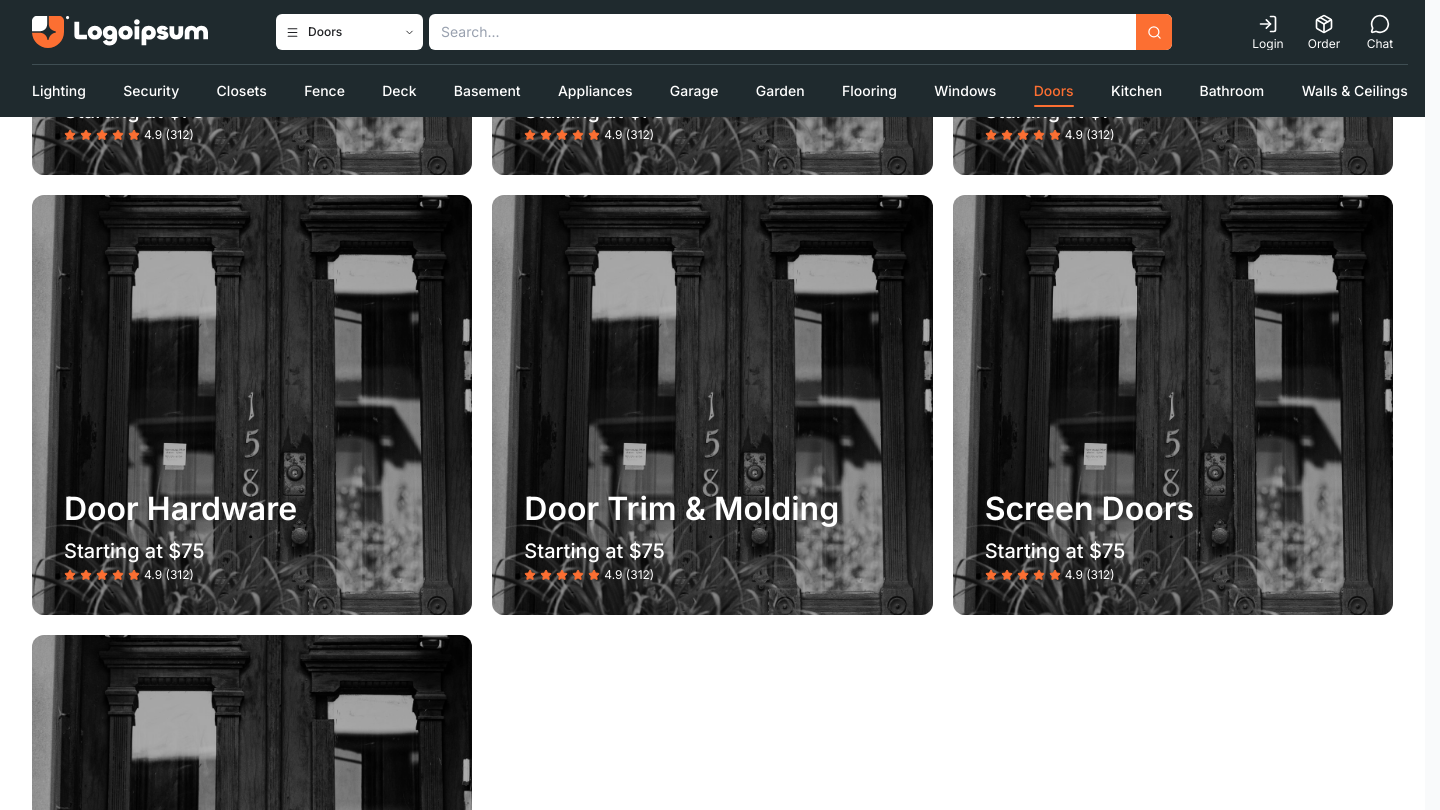
Scenario: Doors page › opens child services when a subcategory card is clicked
The image size is (1440, 810).
(page scrolled)
Click the button "Door Hardware Starting at $75 4.9 (312)" at (252, 405), box 32,195 -> 472,615
(page scrolled)
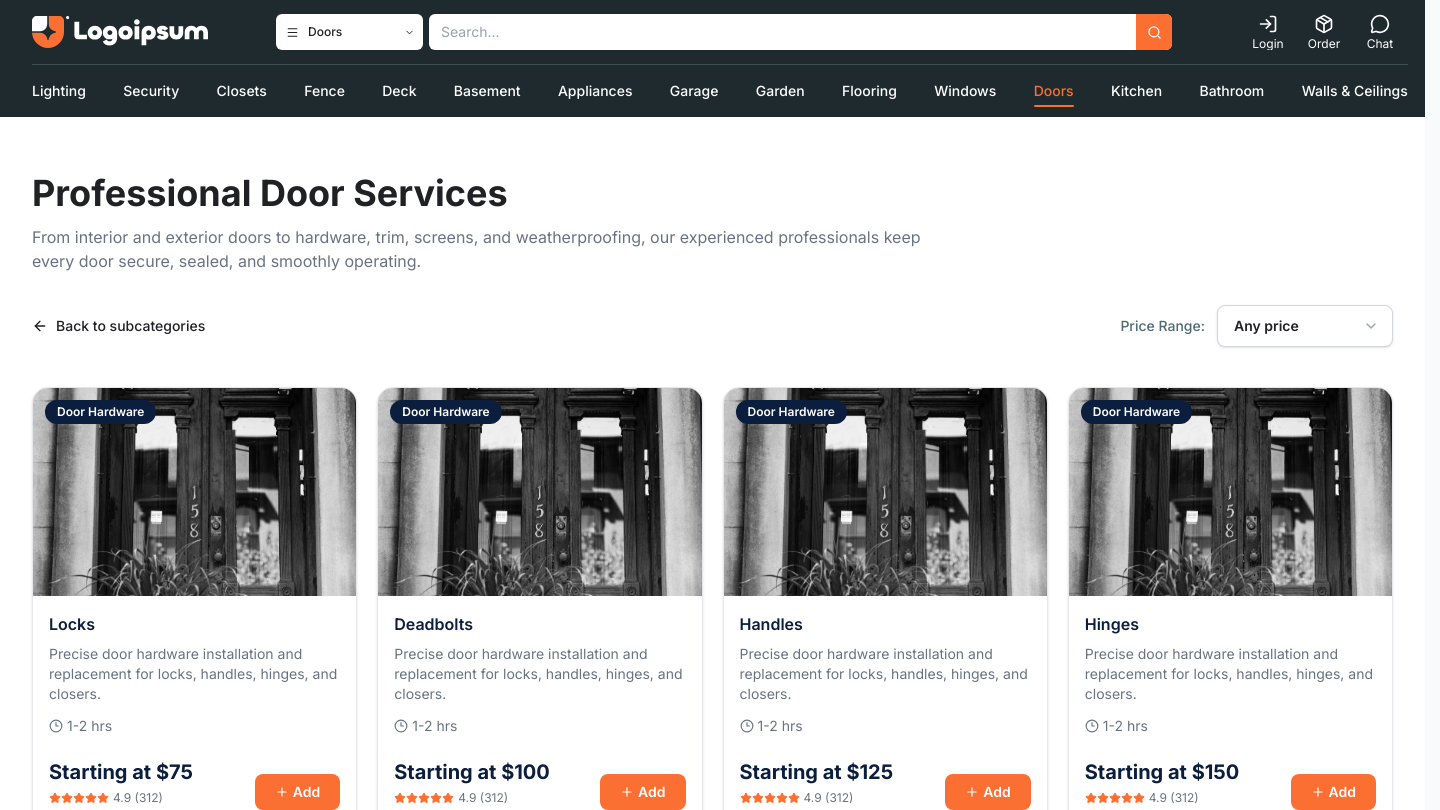
Now the button "Back to subcategories" is shown, box 32,316 -> 205,336
